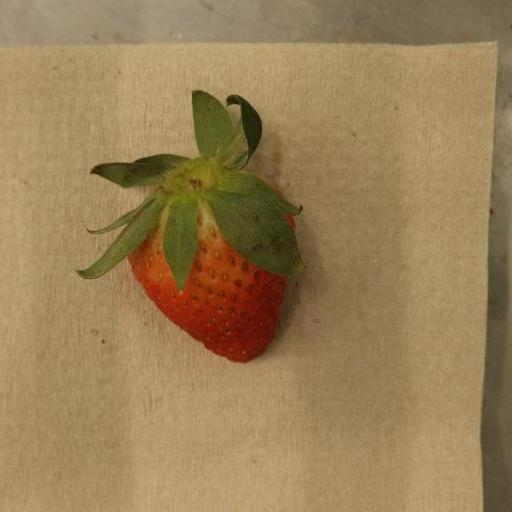Strawberry: (75, 92, 307, 363)
